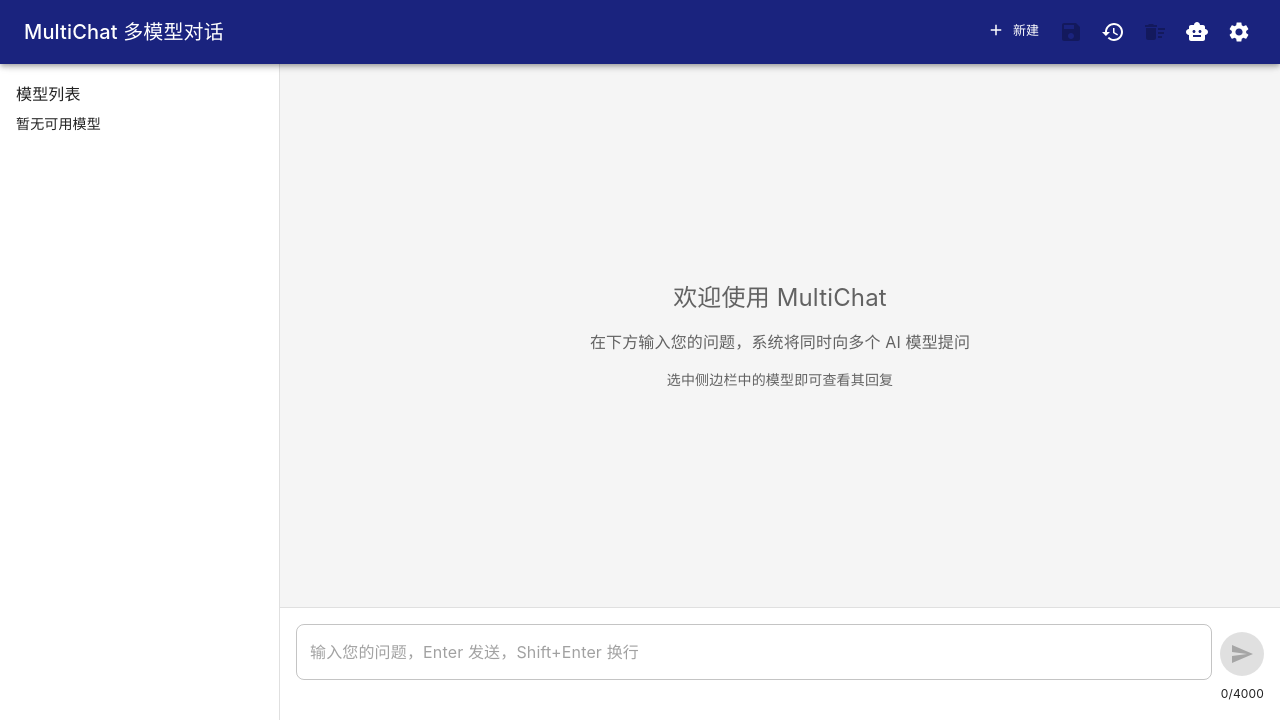
App 组件集成测试 › 模型配置弹窗 › 打开弹窗后可以关闭
The width and height of the screenshot is (1280, 720).
使用原生 click 方法绕过 jsdom 中 MUI Tooltip 的 pointer-events 限制
Click the button named "模型配置".
click(1239, 32)  # box [1222, 15, 1256, 49]
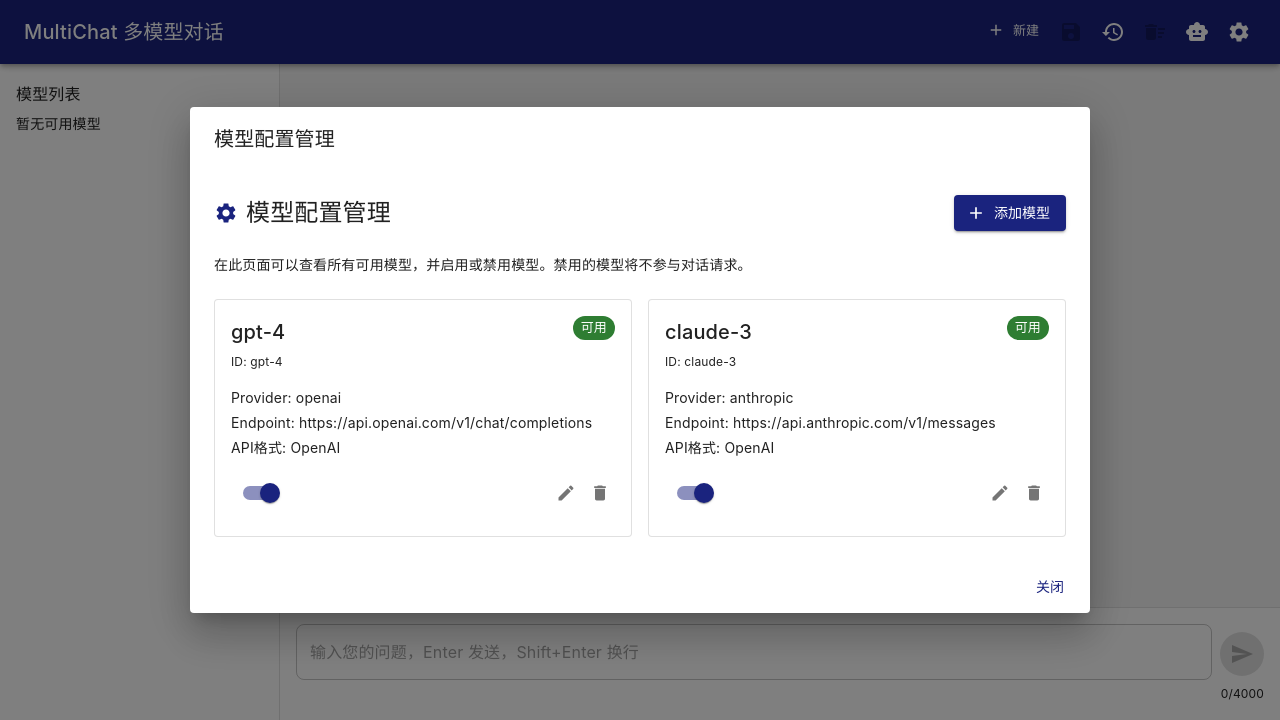
Expected: the 1st heading "模型配置管理" is shown, [214, 127, 335, 151]
点击关闭按钮关闭弹窗
Click the button "关闭".
click(1050, 587)  # box [1018, 569, 1082, 605]
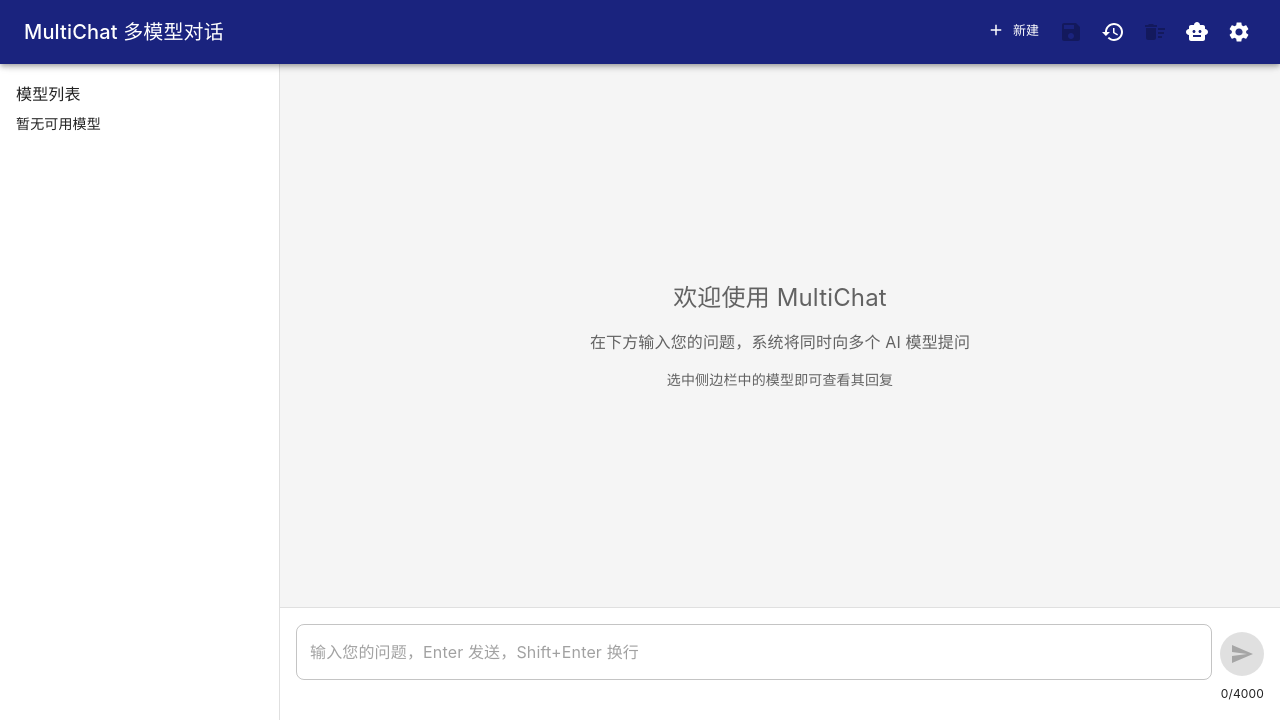
Expected: no headings "模型配置管理" are shown
